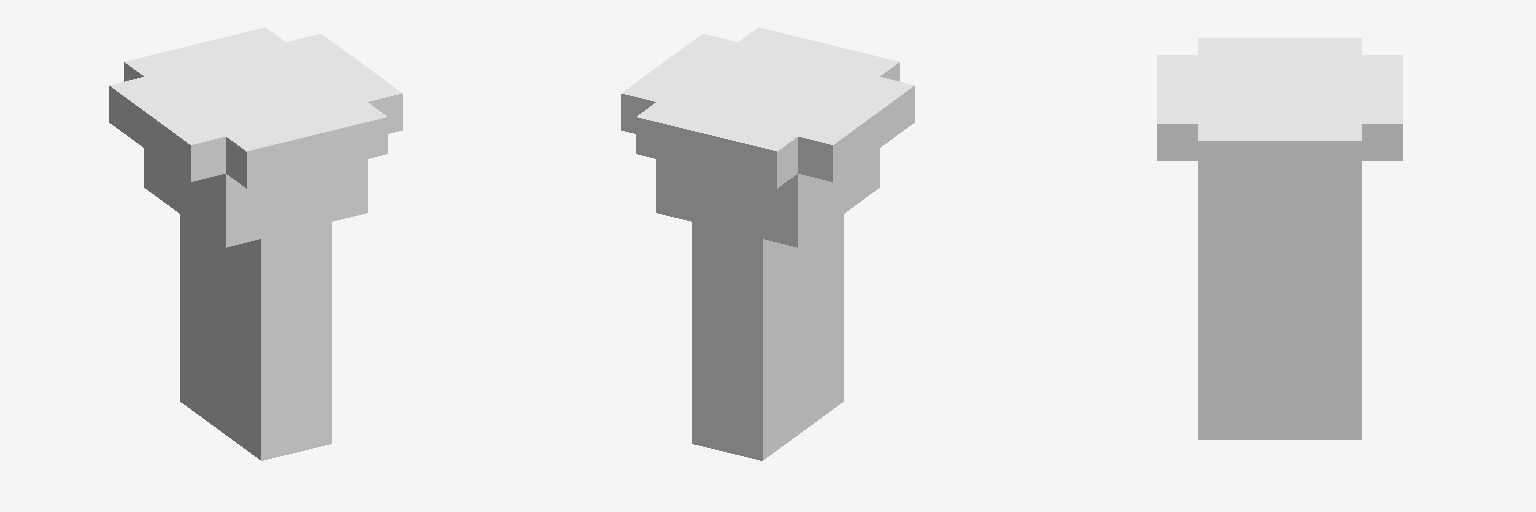
The model's file is ruchka.obj.
3 views of the same model, side by side, from view 1: azimuth 30°, elevation 25°; view 2: azimuth 150°, elevation 25°; view 3: azimuth 270°, elevation 25° (orthographic).
Parts seen in each view (by area): view 1: object 1; view 2: object 1; view 3: object 1.
Boxes of the visible parts, x1=… form: object 1: x1=109, y1=27, x2=402, y2=460; object 1: x1=621, y1=27, x2=914, y2=460; object 1: x1=1157, y1=38, x2=1402, y2=439.
Bounding box in the file's own units: 0.6 × 0.9 × 0.6.